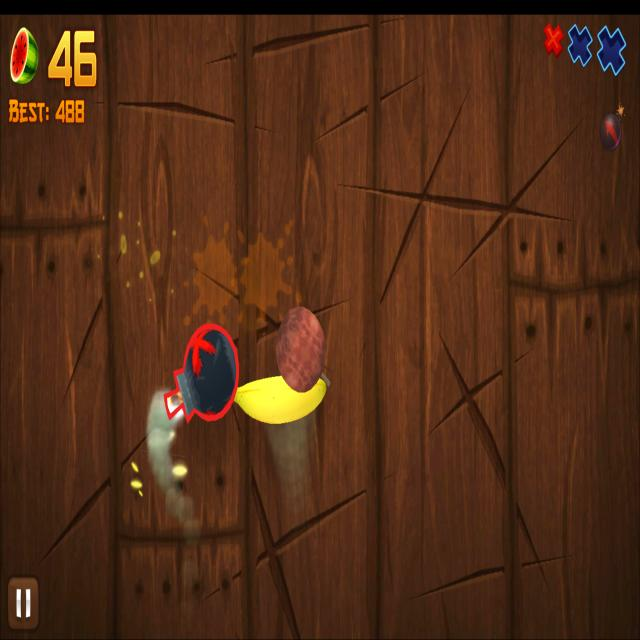bomb: (166, 323, 240, 423)
fruit: (233, 375, 327, 424), (276, 306, 326, 392)
